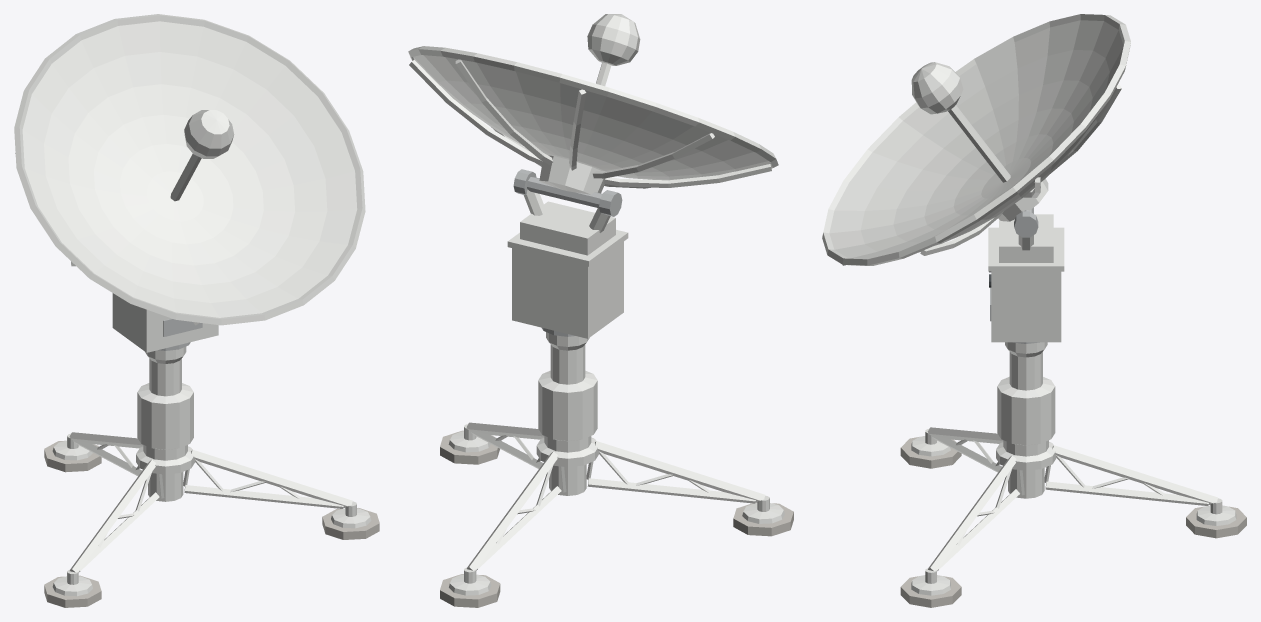
The model's file is antena-gmd1.fbx.
3 views of the same model, side by side, from view 1: azimuth 30°, elevation 25°; view 2: azimuth 150°, elevation 25°; view 3: azimuth 270°, elevation 25° (orthographic). The views are drawn at different scales.
Parts seen in each view (by area): view 1: Cabeca, Base, Alimentador; view 2: Cabeca, Base, Alimentador; view 3: Cabeca, Base, Alimentador.
Boxes of the visible parts, x1,y1,x2,y2 form: Cabeca: (14,14,365,352); Base: (44,342,379,607); Alimentador: (170,110,234,201); Cabeca: (408,46,778,338); Base: (440,328,793,607); Alimentador: (587,14,640,86); Cabeca: (822,14,1130,342); Base: (900,342,1246,607); Alimentador: (911,62,1010,182).
Size of the model in its own units: 2.57 by 3.51 by 2.79.
Materials: 1 (1 with a texture image).
